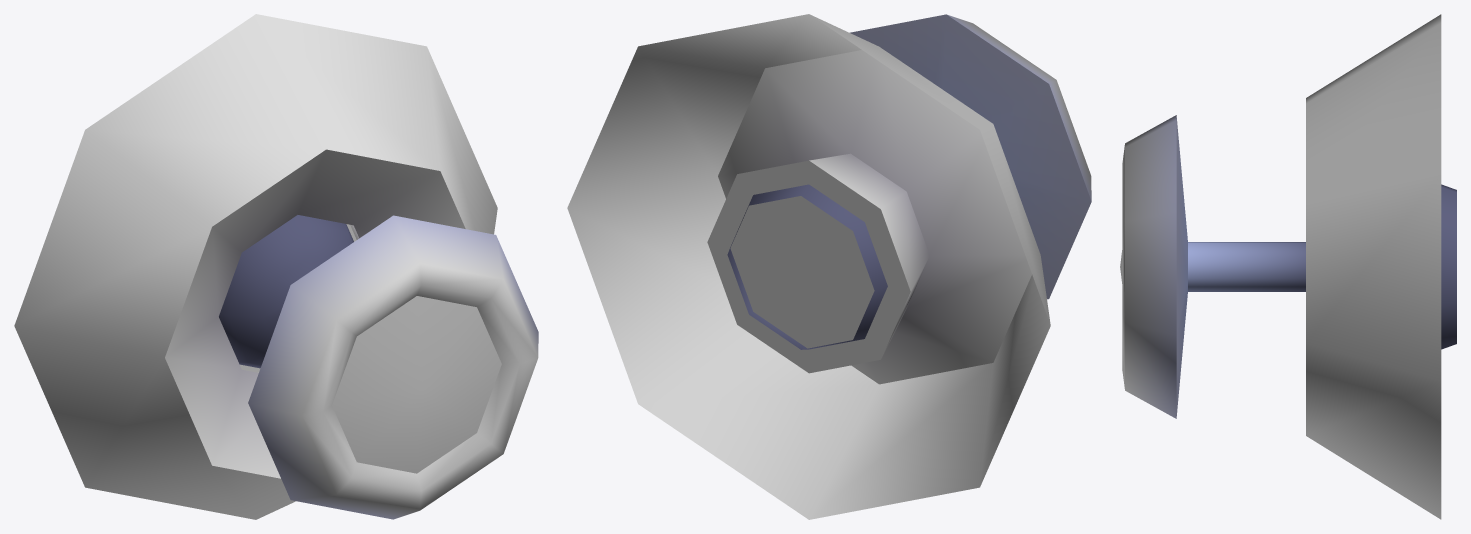
Rendered from InputJoystick.fbx.
3 views of the same model, side by side, from view 1: azimuth 30°, elevation 25°; view 2: azimuth 150°, elevation 25°; view 3: azimuth 270°, elevation 25° (orthographic). The views are drawn at different scales.
Parts seen in each view (by area): view 1: JoystickShell, Joystick; view 2: JoystickShell, Joystick; view 3: JoystickShell, Joystick.
Part boxes in pixels (x1,y1,x2,y2): JoystickShell: (14, 14, 497, 519); Joystick: (219, 215, 538, 519); JoystickShell: (567, 14, 1050, 519); Joystick: (727, 14, 1091, 349); JoystickShell: (1306, 14, 1441, 519); Joystick: (1120, 115, 1456, 418).
Bounding box in the file's own units: 2.28 × 2.28 × 1.43.
